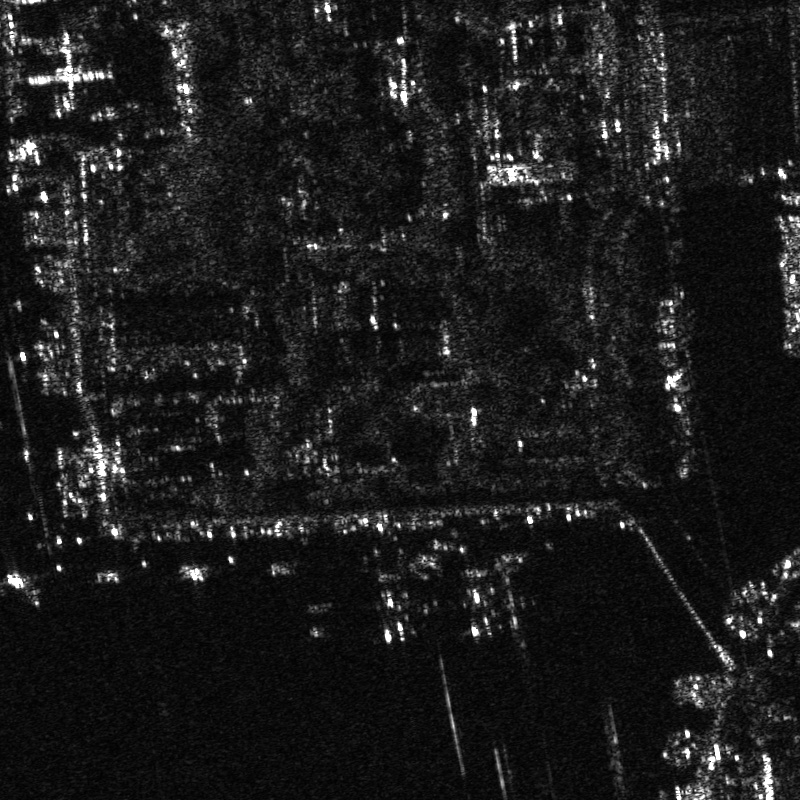ARJ21: (357, 566, 432, 646)
Boeing737: (449, 564, 518, 643)
